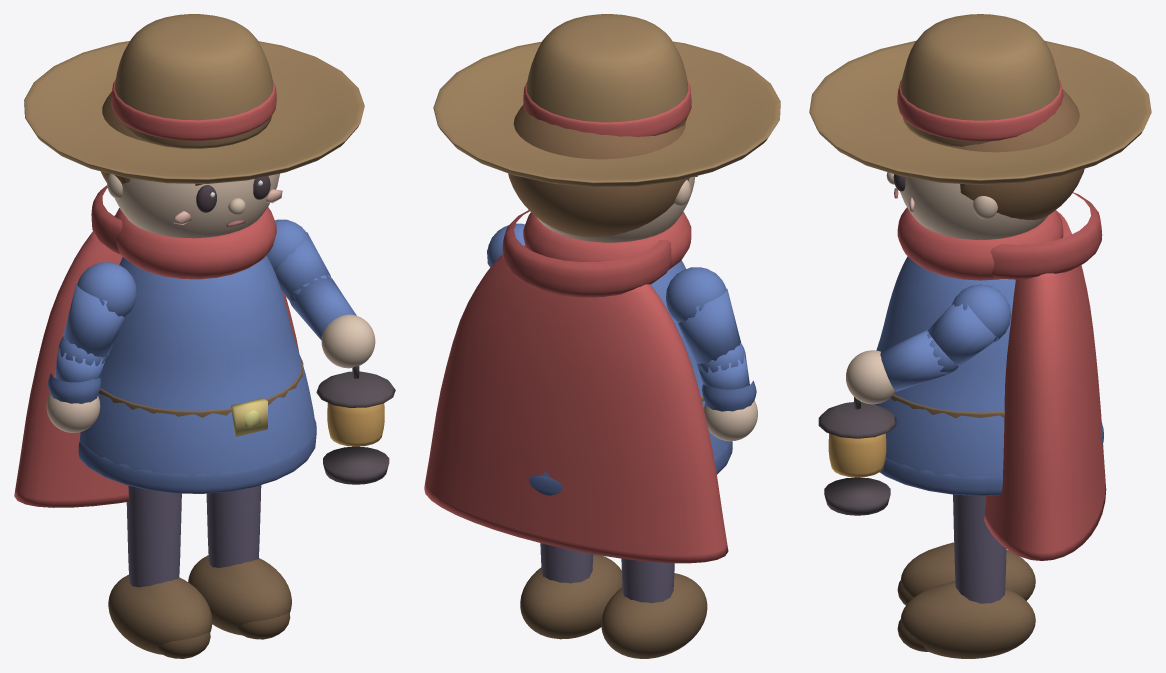
File: hero_warden.glb
3 renders of one model, left to right at view 1: azimuth 30°, elevation 25°; view 2: azimuth 150°, elevation 25°; view 3: azimuth 270°, elevation 25°, orthographic.
Visible parts, largest first — view 1: hero_warden; view 2: hero_warden; view 3: hero_warden.
Part boxes in pixels (x1,y1,x2,y2): hero_warden: (14,14,395,658); hero_warden: (424,14,780,658); hero_warden: (809,14,1151,658).
Bounding box in the file's own units: 1.02 × 1.98 × 1.02.
